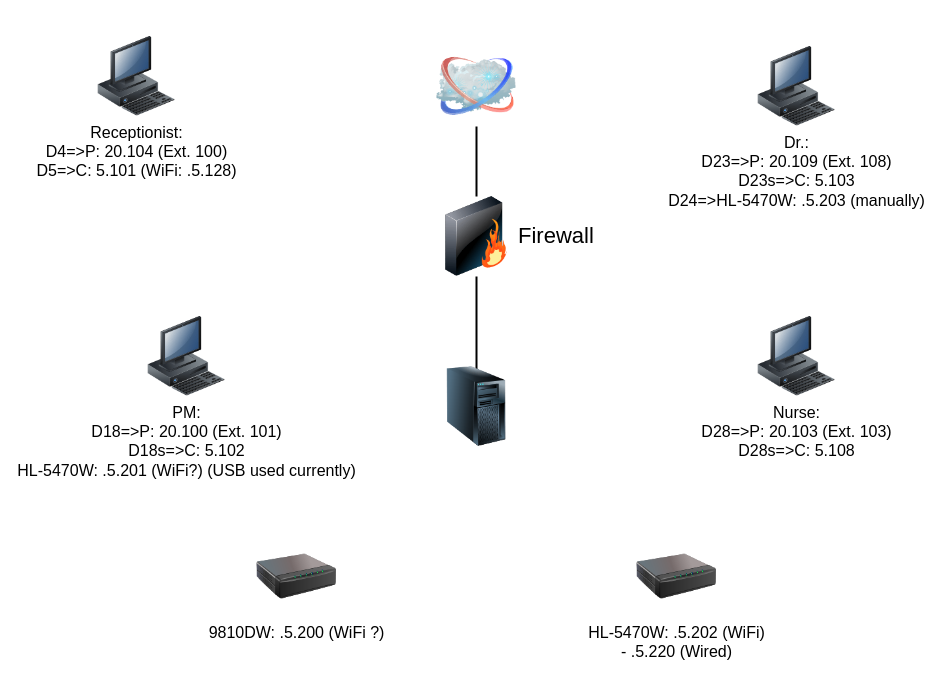
This 942x678 diagram has some shape labels left out. Each missing label, with the centre of its shape:
Internet: the point at 476,86
Server: .5.10: the point at 476,406
